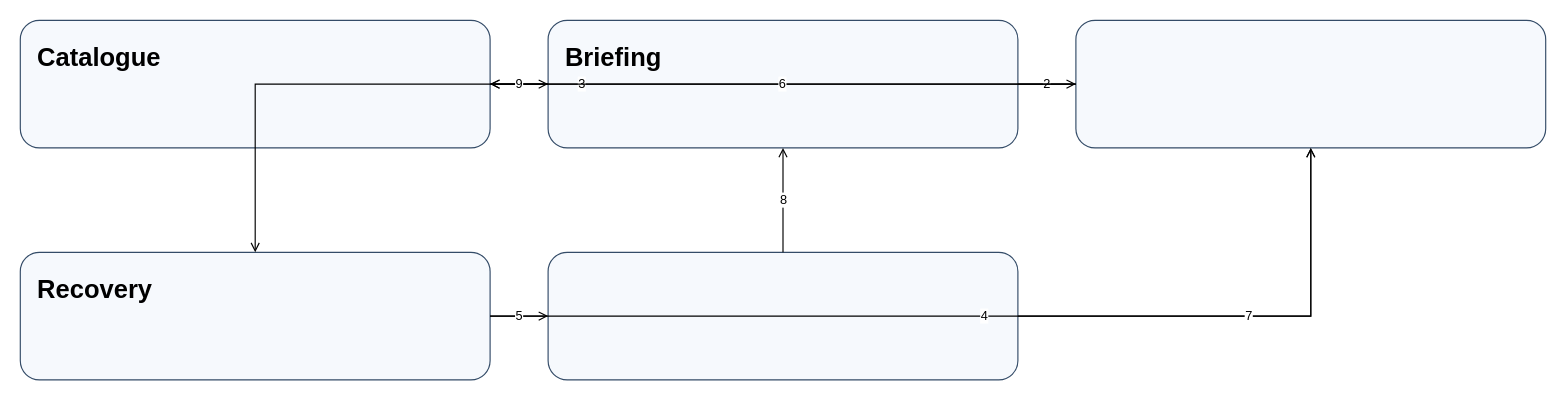
Image size: 1566x400. Some labels were removed from this diagram. Here are the shapes that lost their labels. From the top down, the centre of each, then its label:
At point (1310, 83): "Practice".
At point (782, 315): "Finished".
